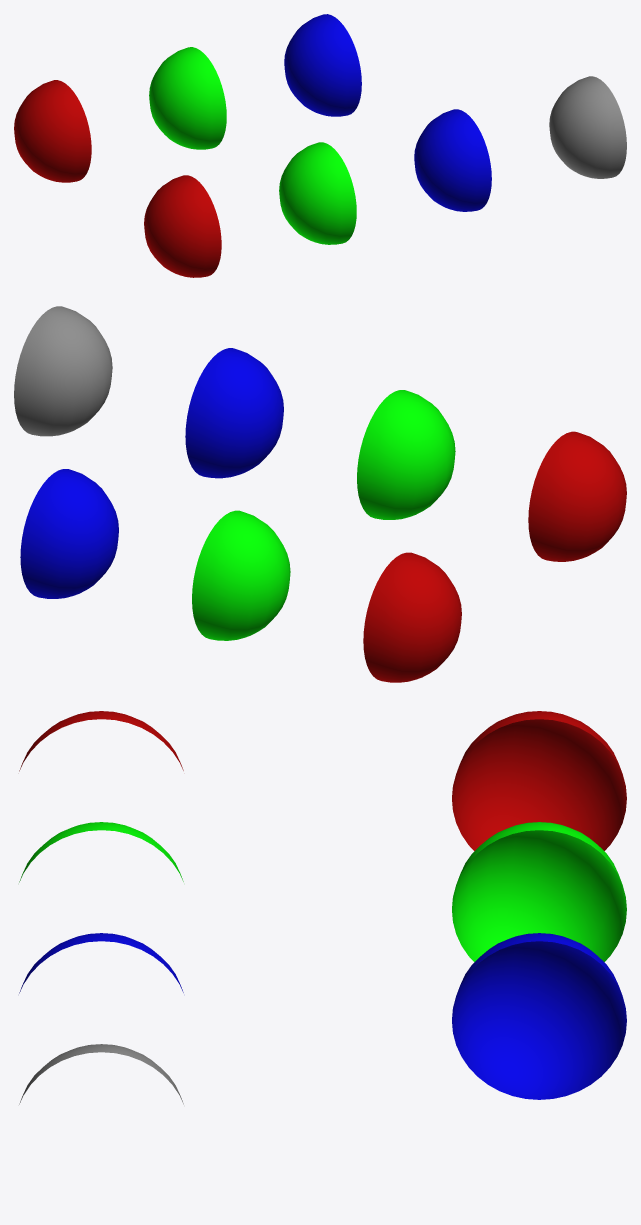
File: BackfaceCulling.gltf
The picture shows the model from 3 angles, top to bottom: view 1: azimuth 30°, elevation 25°; view 2: azimuth 150°, elevation 25°; view 3: azimuth 270°, elevation 25°; orthographic projection. The views are drawn at different scales.
Visible parts, largest first — view 1: pSphere4, pSphere6, pSphere8, pSphere1, pSphere7, pSphere3, pSphere2; view 2: pSphere6, pSphere1, pSphere3, pSphere4, pSphere8, pSphere7, pSphere2; view 3: pSphere9, pSphere6, pSphere11, pSphere4, pSphere1, pSphere3, pSphere7, pSphere2, pSphere8.
Part boxes in pixels (x1,y1,x2,y2): pSphere4: (549, 76, 626, 178); pSphere6: (14, 80, 91, 182); pSphere8: (149, 47, 226, 149); pSphere1: (144, 175, 221, 277); pSphere7: (284, 14, 361, 116); pSphere3: (414, 109, 491, 211); pSphere2: (279, 142, 356, 244); pSphere6: (363, 552, 461, 682); pSphere1: (528, 431, 626, 561); pSphere3: (185, 348, 283, 478); pSphere4: (14, 306, 112, 436); pSphere8: (192, 510, 290, 640); pSphere7: (20, 469, 118, 598); pSphere2: (357, 390, 455, 519); pSphere9: (452, 941, 626, 1099); pSphere6: (452, 711, 626, 850); pSphere11: (452, 830, 626, 961); pSphere4: (19, 1044, 183, 1104); pSphere1: (19, 711, 183, 771); pSphere3: (19, 933, 183, 993); pSphere7: (457, 933, 621, 993); pSphere2: (19, 822, 183, 882); pSphere8: (457, 822, 621, 882).
Size of the model in its own units: 10 by 2 by 7.
